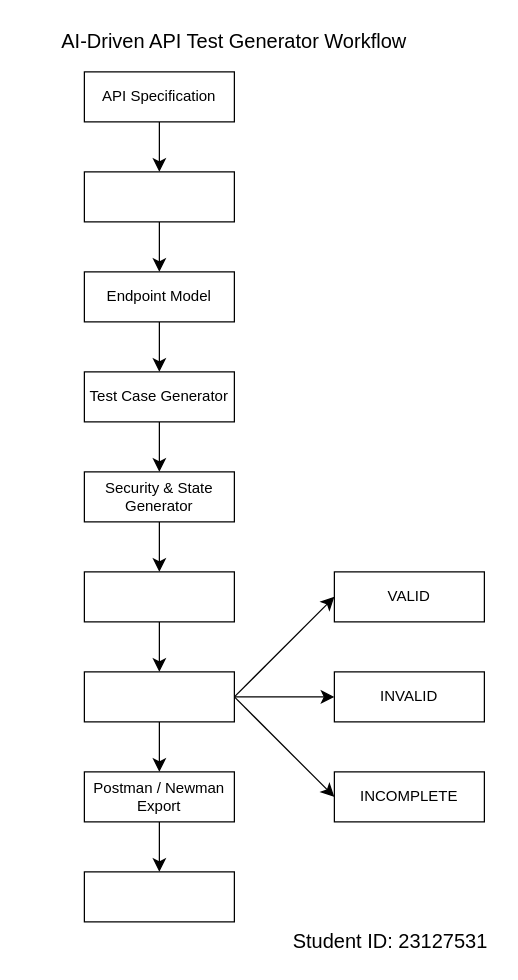
Some shapes in this 518 by 980 pixel diagram are drawn without their labels. Each missing label, with the centre of its shape:
Deduplication: the point at 158,596
Execution: the point at 158,896
Human Audit: the point at 158,696
Requirement Parser: the point at 158,196
